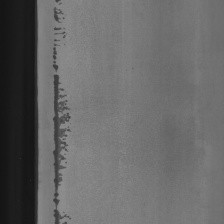water_spot: (48, 0, 76, 222)
